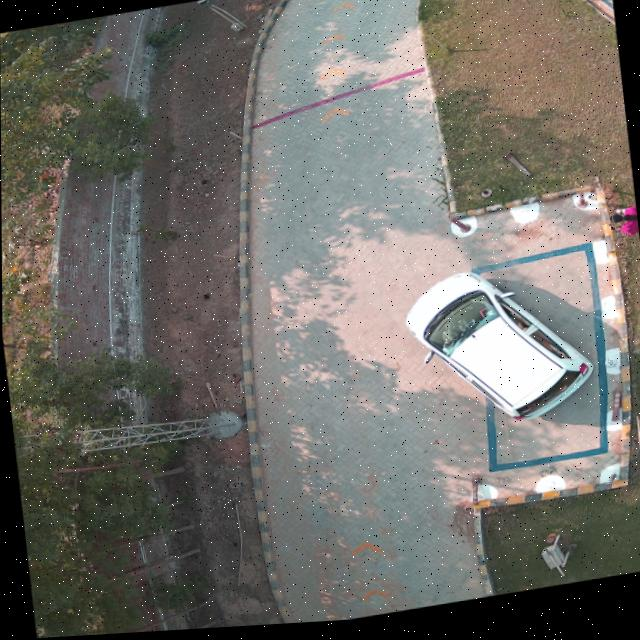car: (405, 277, 592, 425)
